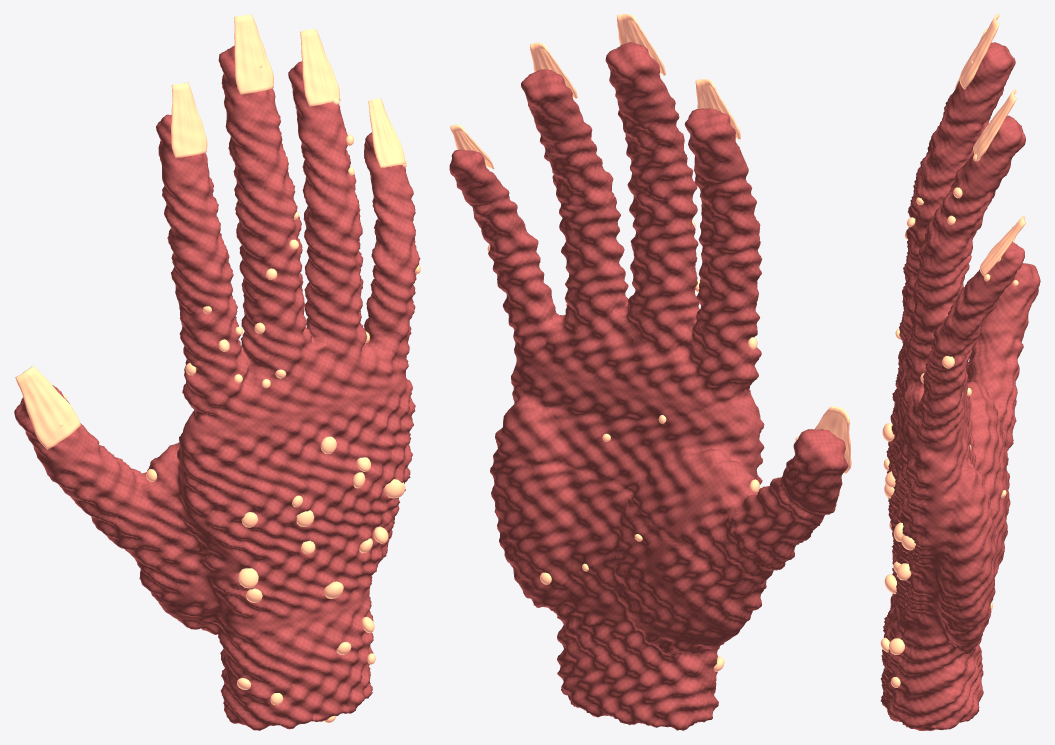
File: family-06.glb
3 views of the same model, side by side, from view 1: azimuth 30°, elevation 25°; view 2: azimuth 150°, elevation 25°; view 3: azimuth 270°, elevation 25° (orthographic). The views are drawn at different scales.
Visible parts, largest first — view 1: fingers__fingers_sculpt, back_of_hand__back_of_hand_sculpt, wrist__wrist_sculpt, fingertips__fingertips_sculpt, nails__thumb_claw, back_of_hand, nails__middle_claw, palm__palm_sculpt, nails__index_claw, nails__ring_claw, nails__pinky_claw, fingers (+1 smaller); view 2: fingers__fingers_sculpt, palm__palm_sculpt, wrist__wrist_sculpt, fingertips__fingertips_sculpt, nails__thumb_claw, nails__middle_claw, nails__index_claw, nails__ring_claw; view 3: fingers__fingers_sculpt, palm__palm_sculpt, wrist__wrist_sculpt, fingertips__fingertips_sculpt, back_of_hand__back_of_hand_sculpt, back_of_hand, nails__middle_claw, nails__ring_claw, nails__pinky_claw, fingers, wrist.
Part boxes in pixels (<box>): fingers__fingers_sculpt: <box>45,106,420,607</box>; back_of_hand__back_of_hand_sculpt: <box>181,376,415,625</box>; wrist__wrist_sculpt: <box>172,573,373,730</box>; fingertips__fingertips_sculpt: <box>14,45,408,468</box>; nails__thumb_claw: <box>15,366,80,449</box>; back_of_hand: <box>238,436,405,602</box>; nails__middle_claw: <box>234,14,273,94</box>; palm__palm_sculpt: <box>161,420,399,618</box>; nails__index_claw: <box>171,82,207,158</box>; nails__ring_claw: <box>300,29,340,106</box>; nails__pinky_claw: <box>368,98,405,167</box>; fingers: <box>146,134,420,481</box>; fingers__fingers_sculpt: <box>463,95,837,631</box>; palm__palm_sculpt: <box>490,357,758,641</box>; wrist__wrist_sculpt: <box>522,589,730,730</box>; fingertips__fingertips_sculpt: <box>449,42,848,508</box>; nails__thumb_claw: <box>814,406,851,473</box>; nails__middle_claw: <box>617,14,665,75</box>; nails__index_claw: <box>695,79,740,139</box>; nails__ring_claw: <box>530,42,577,98</box>; fingers__fingers_sculpt: <box>897,92,1023,515</box>; palm__palm_sculpt: <box>934,372,1007,644</box>; wrist__wrist_sculpt: <box>880,593,983,730</box>; fingertips__fingertips_sculpt: <box>953,42,1040,333</box>; back_of_hand__back_of_hand_sculpt: <box>886,377,936,632</box>; back_of_hand: <box>882,423,915,593</box>; nails__middle_claw: <box>959,14,999,89</box>; nails__ring_claw: <box>973,89,1016,160</box>; nails__pinky_claw: <box>979,216,1025,275</box>; fingers: <box>895,187,962,383</box>; wrist: <box>880,637,904,709</box>.
Bounding box in the file's own units: 0.1331 × 0.2281 × 0.0488.
2 materials, 1 textured.
